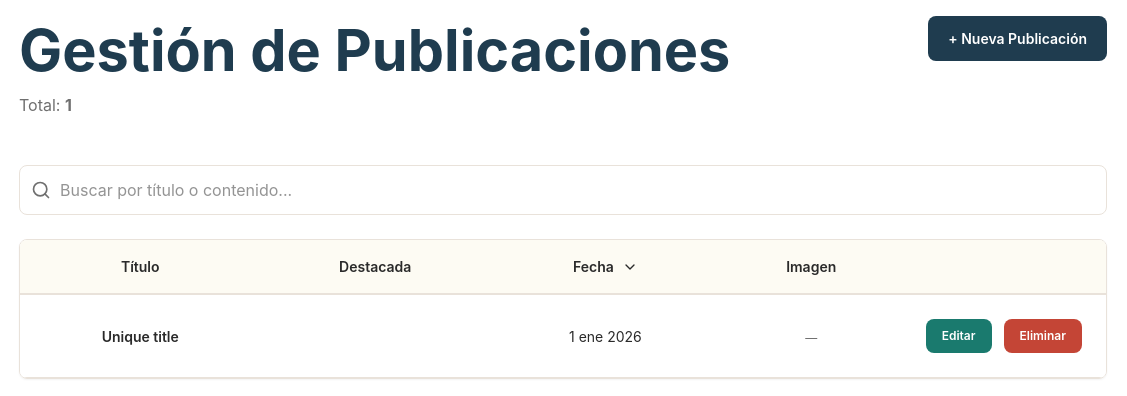
Scenario: search › shows no results message when search matches nothing
Type "zzznomatch" into the field with placeholder "Buscar por título o contenido...". click: x=563, y=190
box: [19,165,1107,215]
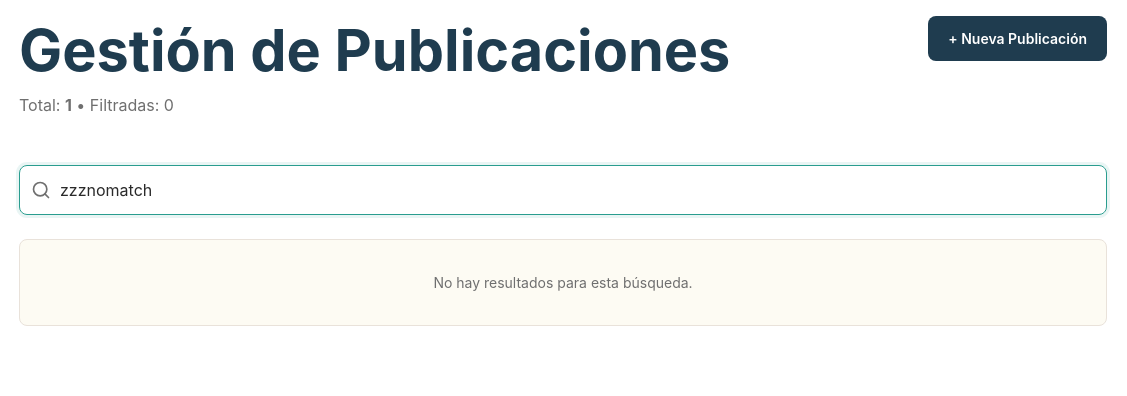
Now the text "No hay resultados para esta búsqueda." is shown, box [433,274,693,291]
